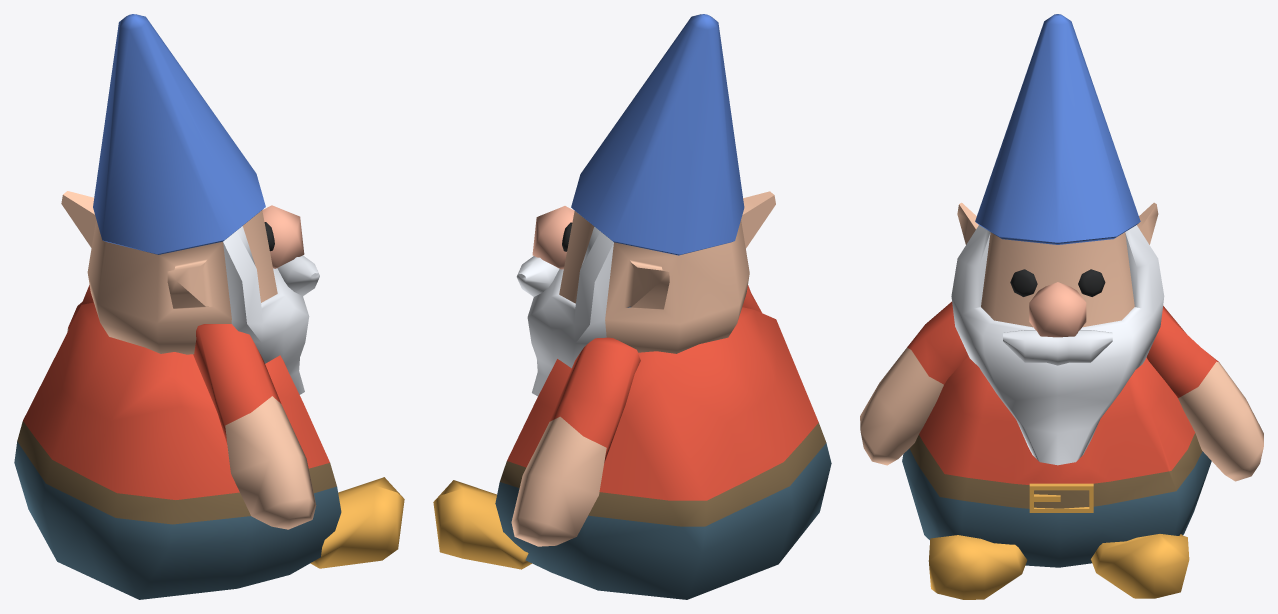
File: SM_Prop_GardenGnome_Sitting_01.obj
3 renders of one model, left to right at view 1: azimuth 30°, elevation 25°; view 2: azimuth 150°, elevation 25°; view 3: azimuth 270°, elevation 25°, orthographic. The views are drawn at different scales.
Parts seen in each view (by area): view 1: SM_Prop_GardenGnome_Sitting_01_Mat_SwatchOverlay_PolygonTown_01_; view 2: SM_Prop_GardenGnome_Sitting_01_Mat_SwatchOverlay_PolygonTown_01_; view 3: SM_Prop_GardenGnome_Sitting_01_Mat_SwatchOverlay_PolygonTown_01_.
Boxes of the visible parts, x1,y1,x2,y2 form: SM_Prop_GardenGnome_Sitting_01_Mat_SwatchOverlay_PolygonTown_01_: (14, 14, 404, 599); SM_Prop_GardenGnome_Sitting_01_Mat_SwatchOverlay_PolygonTown_01_: (433, 14, 831, 599); SM_Prop_GardenGnome_Sitting_01_Mat_SwatchOverlay_PolygonTown_01_: (860, 14, 1263, 599).
Bounding box in the file's own units: 0.3347 × 0.5586 × 0.4125.
Materials: 1 (1 with a texture image).
